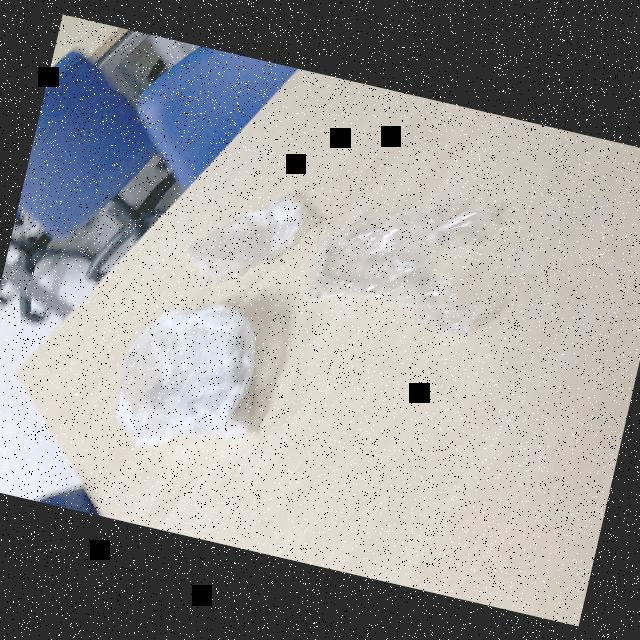plastic_bag: (100, 285, 292, 476)
scrap_plastic: (303, 151, 523, 368), (173, 172, 318, 306)
